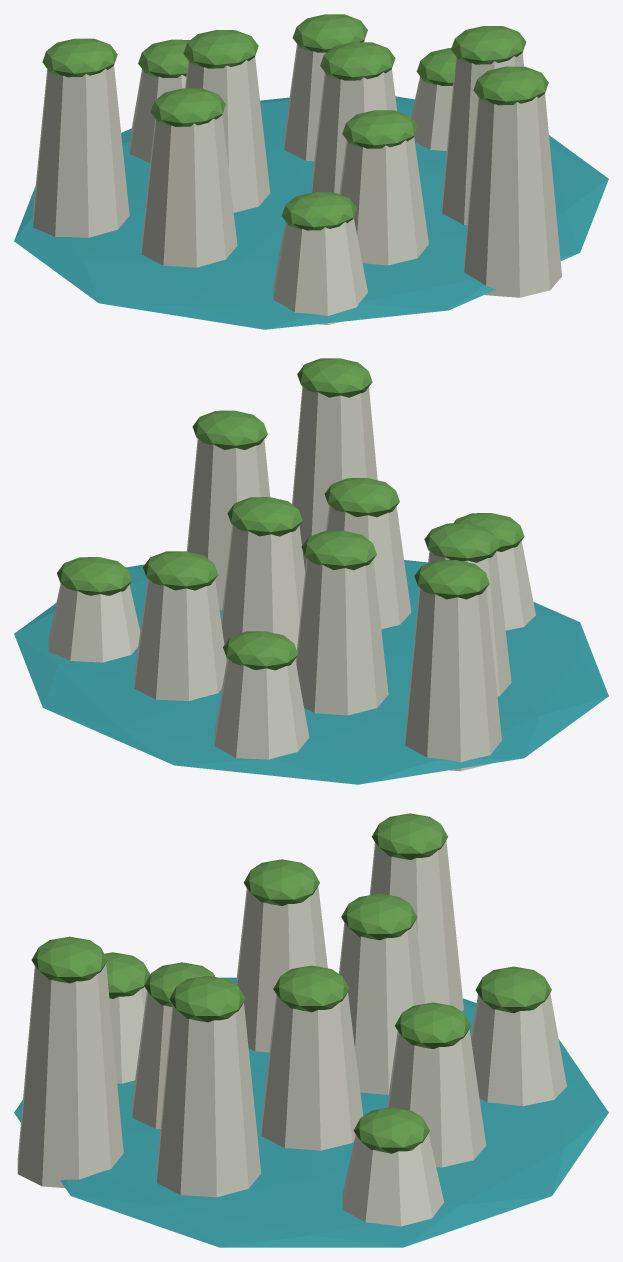
File: FEATURE_HA_LONG_BAY.fbx
The picture shows the model from 3 angles, top to bottom: view 1: azimuth 30°, elevation 25°; view 2: azimuth 150°, elevation 25°; view 3: azimuth 270°, elevation 25°; orthographic projection. The views are drawn at different scales.
Visible parts, largest first — view 1: Emerald_bay, Karst_tower.010, Karst_tower.009, Karst_tower.004, Karst_tower.002, Karst_tower.007, Karst_tower.001, Karst_tower, Karst_tower.005, Karst_tower.003, Karst_tower.008, Karst_canopy.010 (+11 smaller); view 2: Emerald_bay, Karst_tower.009, Karst_tower.001, Karst_tower.003, Karst_tower.010, Karst_tower, Karst_tower.006, Karst_tower.005, Karst_tower.008, Karst_tower.002, Karst_tower.007, Karst_canopy.005 (+11 smaller); view 3: Emerald_bay, Karst_tower.010, Karst_tower.005, Karst_tower, Karst_tower.001, Karst_tower.003, Karst_tower.006, Karst_tower.004, Karst_tower.009, Karst_tower.008, Karst_tower.002, Karst_canopy.005 (+11 smaller).
Part boxes in pixels (<box>): Emerald_bay: <box>14,96,608,329</box>; Karst_tower.010: <box>464,94,561,297</box>; Karst_tower.009: <box>33,66,129,237</box>; Karst_tower.004: <box>141,115,237,267</box>; Karst_tower.002: <box>339,137,428,265</box>; Karst_tower.007: <box>273,218,367,324</box>; Karst_tower.001: <box>185,57,270,212</box>; Karst_tower: <box>311,69,396,194</box>; Karst_tower.005: <box>442,53,523,225</box>; Karst_tower.003: <box>284,40,364,161</box>; Karst_tower.008: <box>411,76,452,150</box>; Karst_canopy.010: <box>473,66,548,105</box>; Emerald_bay: <box>14,560,608,784</box>; Karst_tower.009: <box>405,588,501,771</box>; Karst_tower.001: <box>295,559,388,715</box>; Karst_tower.003: <box>134,579,226,700</box>; Karst_tower.010: <box>292,386,377,570</box>; Karst_tower: <box>221,525,305,659</box>; Karst_tower.006: <box>214,659,309,759</box>; Karst_tower.005: <box>186,439,270,610</box>; Karst_tower.008: <box>48,584,140,662</box>; Karst_tower.002: <box>326,506,411,628</box>; Karst_tower.007: <box>496,541,535,630</box>; Karst_canopy.005: <box>192,410,267,449</box>; Emerald_bay: <box>14,977,608,1247</box>; Karst_tower.010: <box>17,963,123,1187</box>; Karst_tower.005: <box>156,1002,261,1197</box>; Karst_tower: <box>261,992,363,1150</box>; Karst_tower.001: <box>339,920,424,1094</box>; Karst_tower.003: <box>387,1029,486,1167</box>; Karst_tower.006: <box>470,993,566,1106</box>; Karst_tower.004: <box>236,886,327,1052</box>; Karst_tower.009: <box>369,840,463,1011</box>; Karst_tower.008: <box>342,1133,444,1226</box>; Karst_tower.002: <box>132,991,172,1128</box>; Karst_canopy.005: <box>169,975,245,1022</box>.
Size of the model in its own units: 150 by 58.23 by 140.
